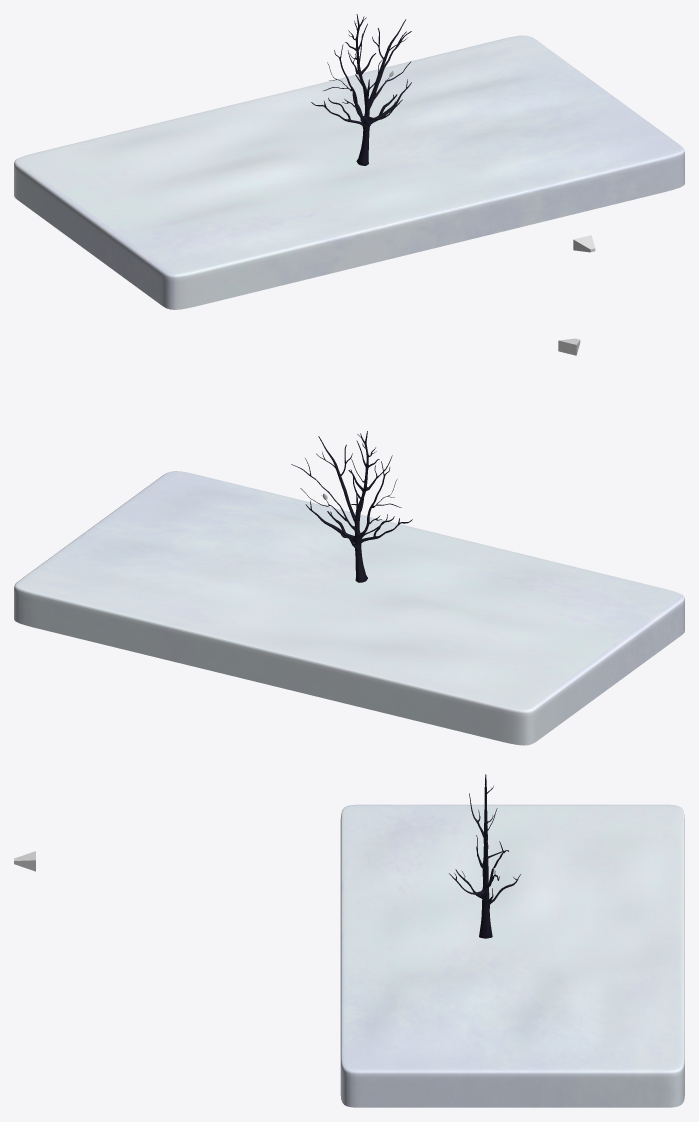
Rendered from leave_tree_layout_v01_fdi.fbx.
3 views of the same model, one above another, from view 1: azimuth 30°, elevation 25°; view 2: azimuth 150°, elevation 25°; view 3: azimuth 270°, elevation 25° (orthographic). The views are drawn at different scales.
Visible parts, largest first — view 1: Cube, tree; view 2: Cube, tree; view 3: Cube, tree.
Boxes of the visible parts, <box> form: Cube: <box>14,35,684,309</box>; tree: <box>311,14,411,165</box>; Cube: <box>14,471,684,745</box>; tree: <box>291,431,412,582</box>; Cube: <box>340,804,684,1107</box>; tree: <box>449,774,520,938</box>.
Size of the model in its own units: 3561 by 1221 by 3771.
